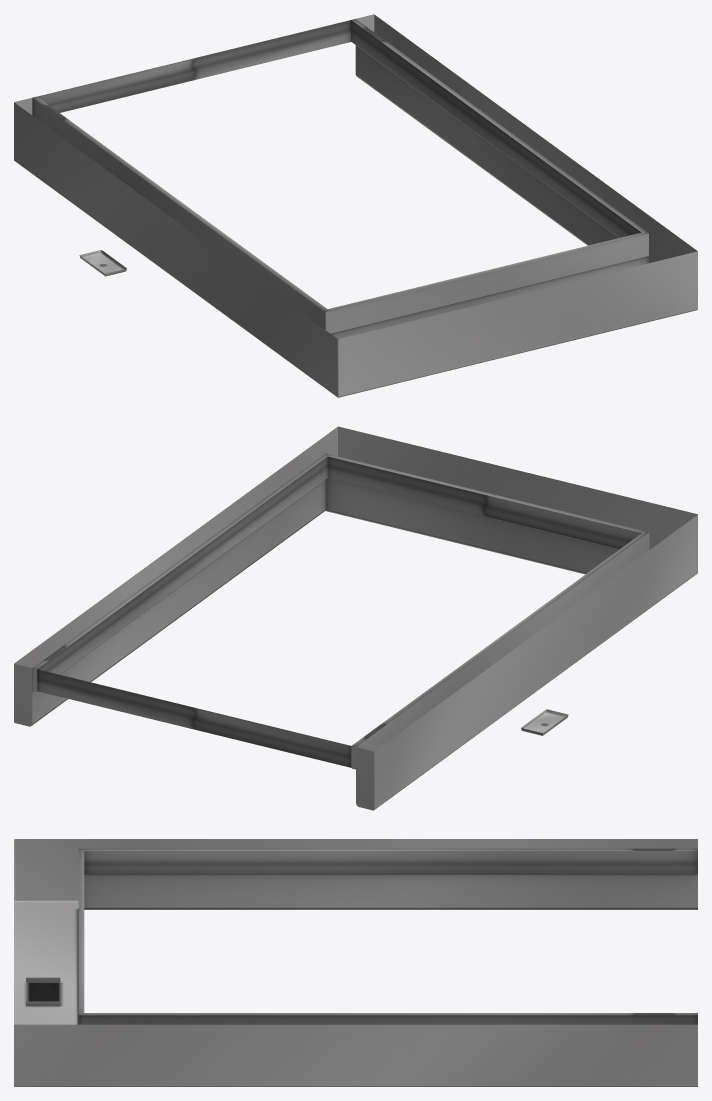
File: aws_robomaker_hospital_elevator_01_portal_visual.dae
3 views of the same model, one above another, from view 1: azimuth 30°, elevation 25°; view 2: azimuth 150°, elevation 25°; view 3: azimuth 270°, elevation 25° (orthographic). The views are drawn at different scales.
Parts seen in each view (by area): view 1: aws_robomaker_hospital_elevator_01_portal_visual; view 2: aws_robomaker_hospital_elevator_01_portal_visual; view 3: aws_robomaker_hospital_elevator_01_portal_visual.
Part boxes in pixels (<box>): aws_robomaker_hospital_elevator_01_portal_visual: <box>14,14,697,397</box>; aws_robomaker_hospital_elevator_01_portal_visual: <box>14,426,697,810</box>; aws_robomaker_hospital_elevator_01_portal_visual: <box>14,839,697,1086</box>.
Size of the model in its own units: 186 by 26.13 by 253.
Materials: 1 (1 with a texture image).
